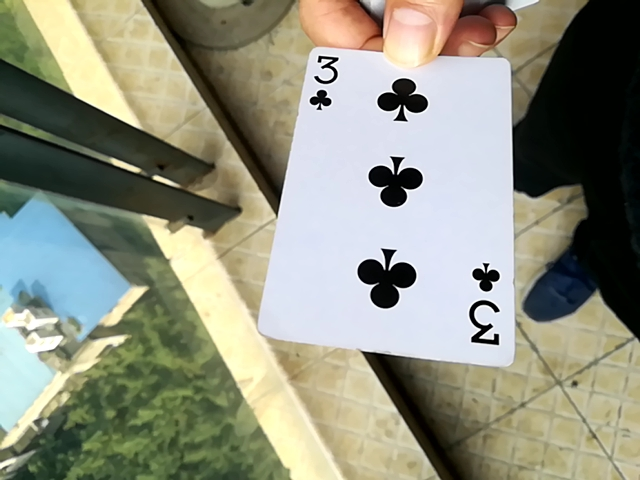mh 3: (248, 45, 518, 371)
